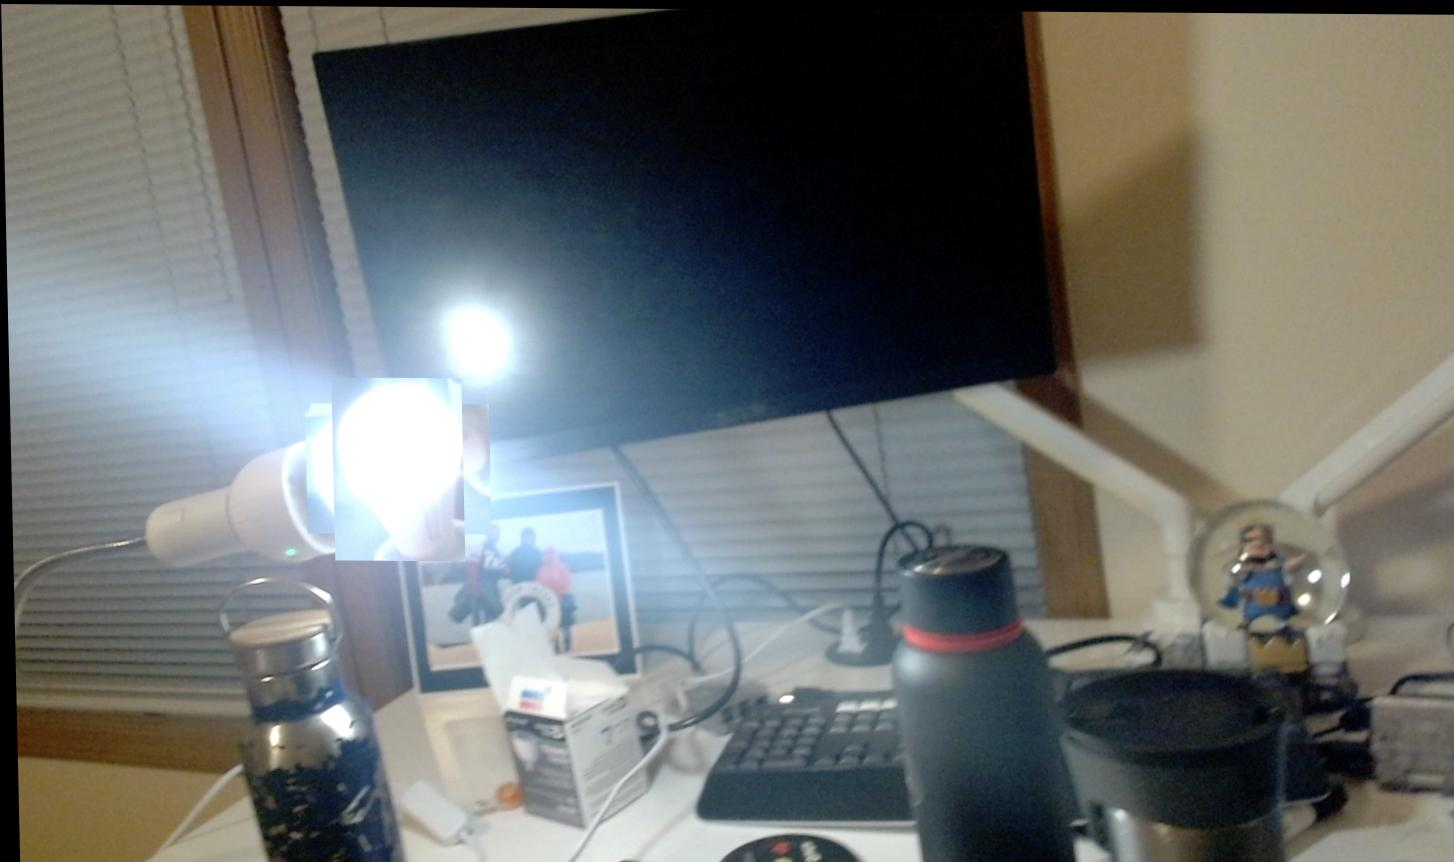TubeLight: (315, 388, 475, 546)
